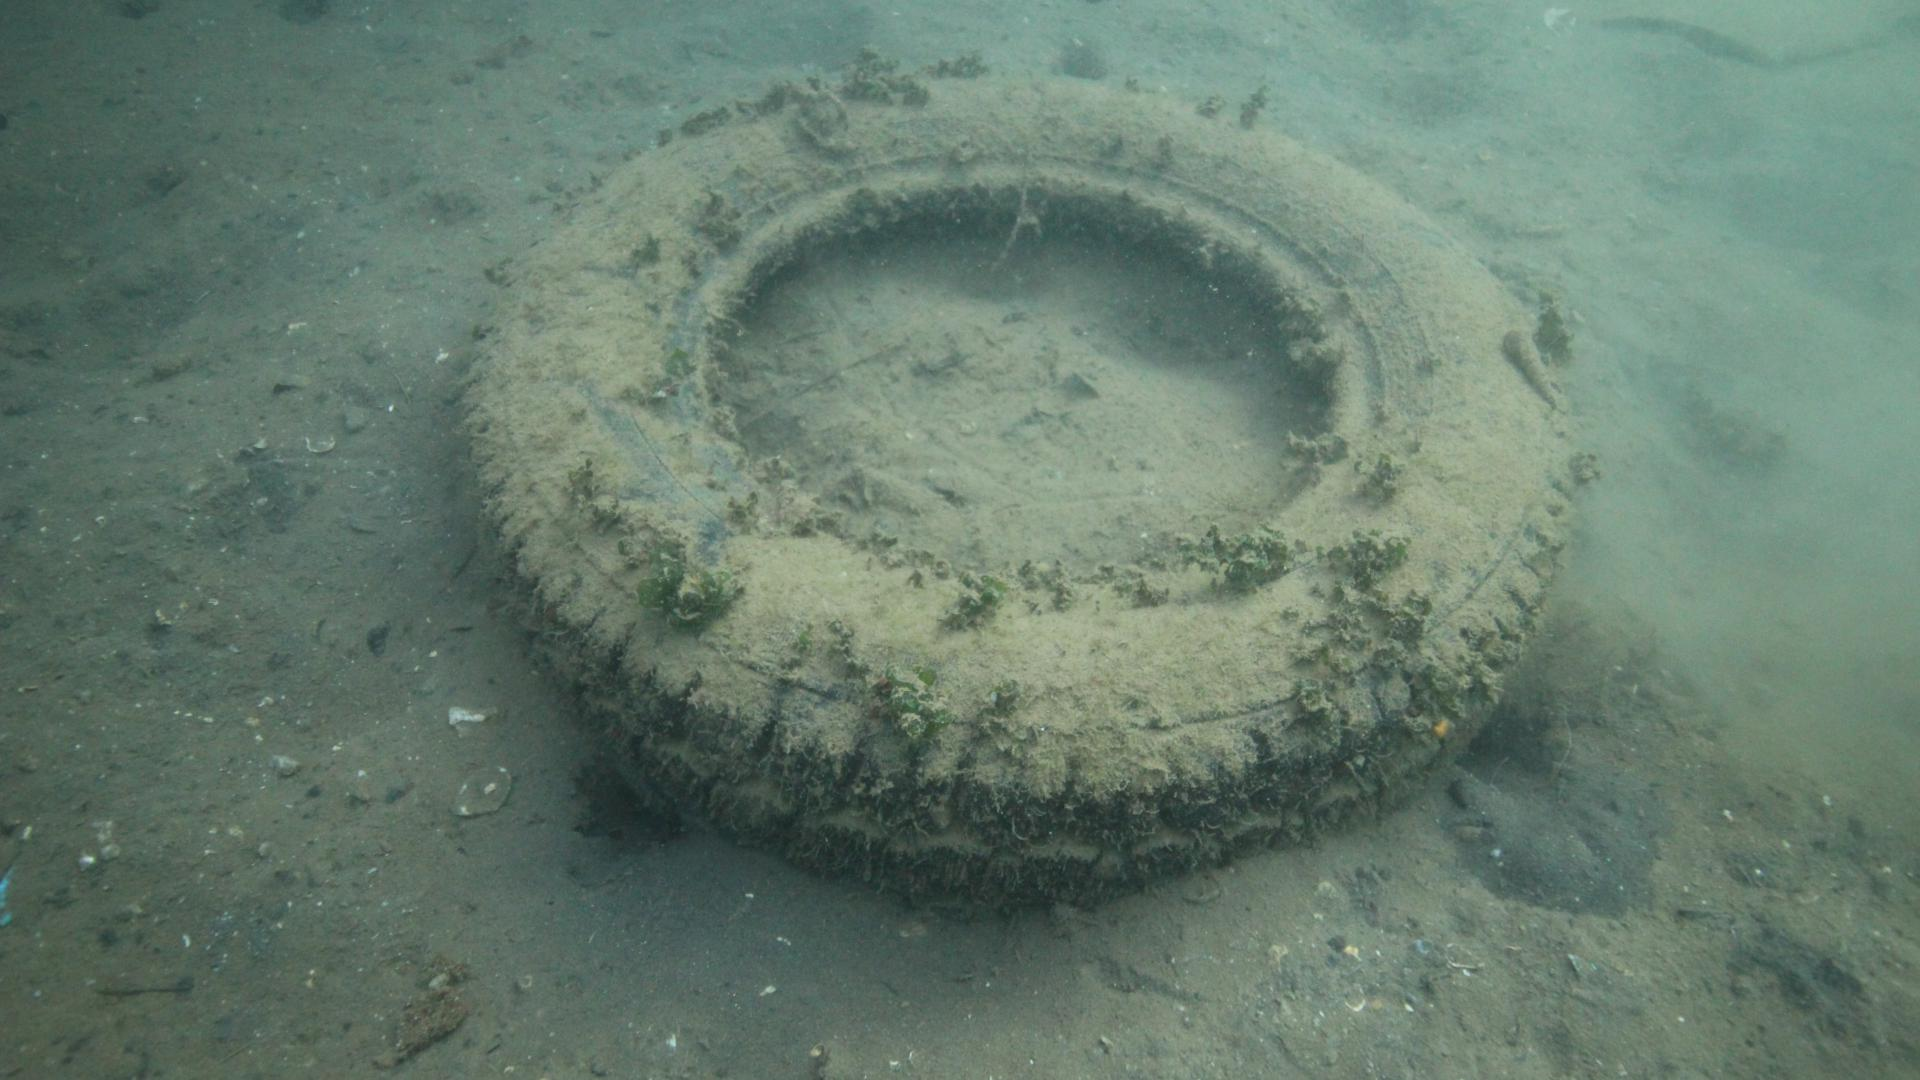tire: (456, 66, 1571, 920)
